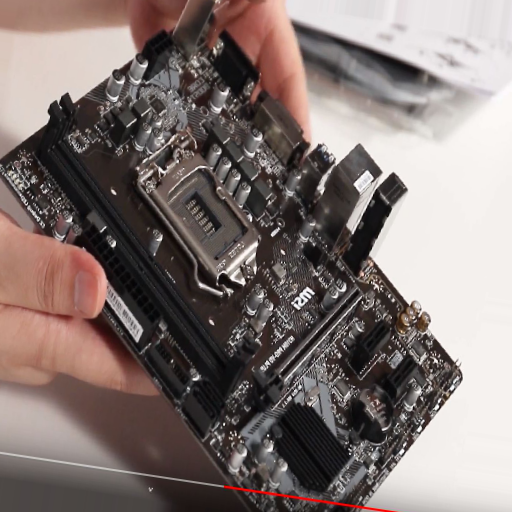CPU: (137, 135, 261, 284)
GPU: (254, 285, 369, 403)
MOTHERBOARD: (12, 7, 465, 512)
RAM: (46, 94, 256, 401)
